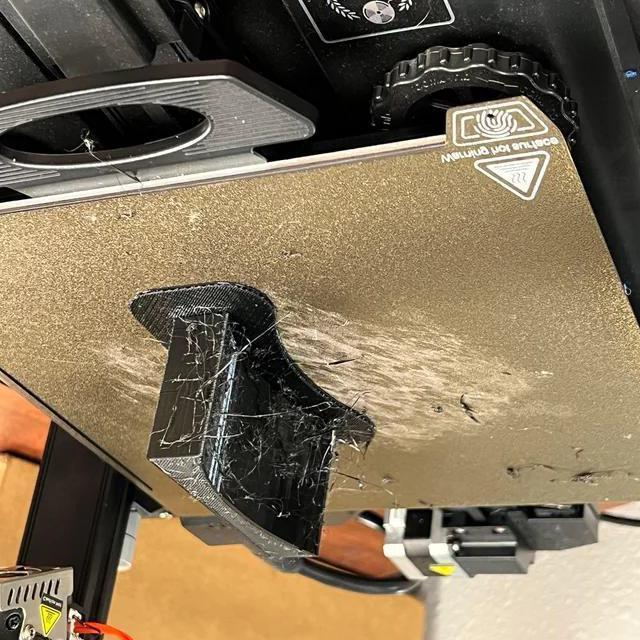Stringing: (260, 410, 338, 477), (180, 314, 224, 381), (179, 391, 219, 446), (215, 406, 269, 424)
